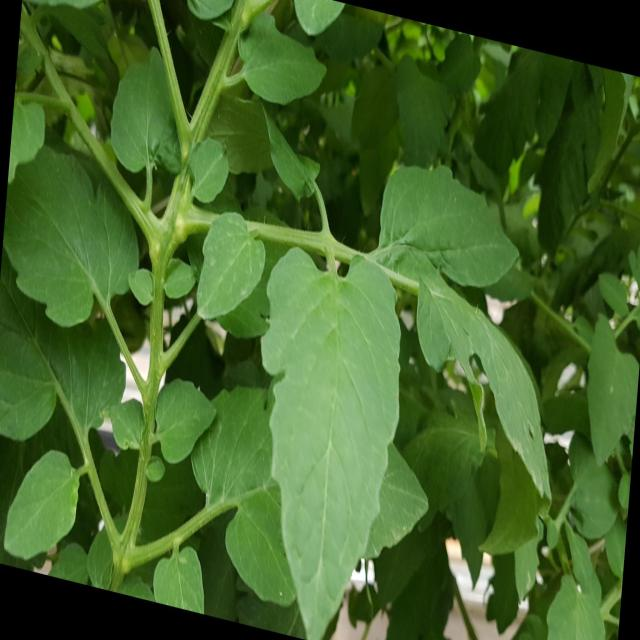Healthy Leaf: (260, 226, 403, 640), (0, 140, 144, 333), (374, 161, 523, 290), (109, 49, 183, 178), (583, 307, 638, 470), (195, 208, 268, 324), (238, 15, 330, 106), (155, 376, 219, 466)
